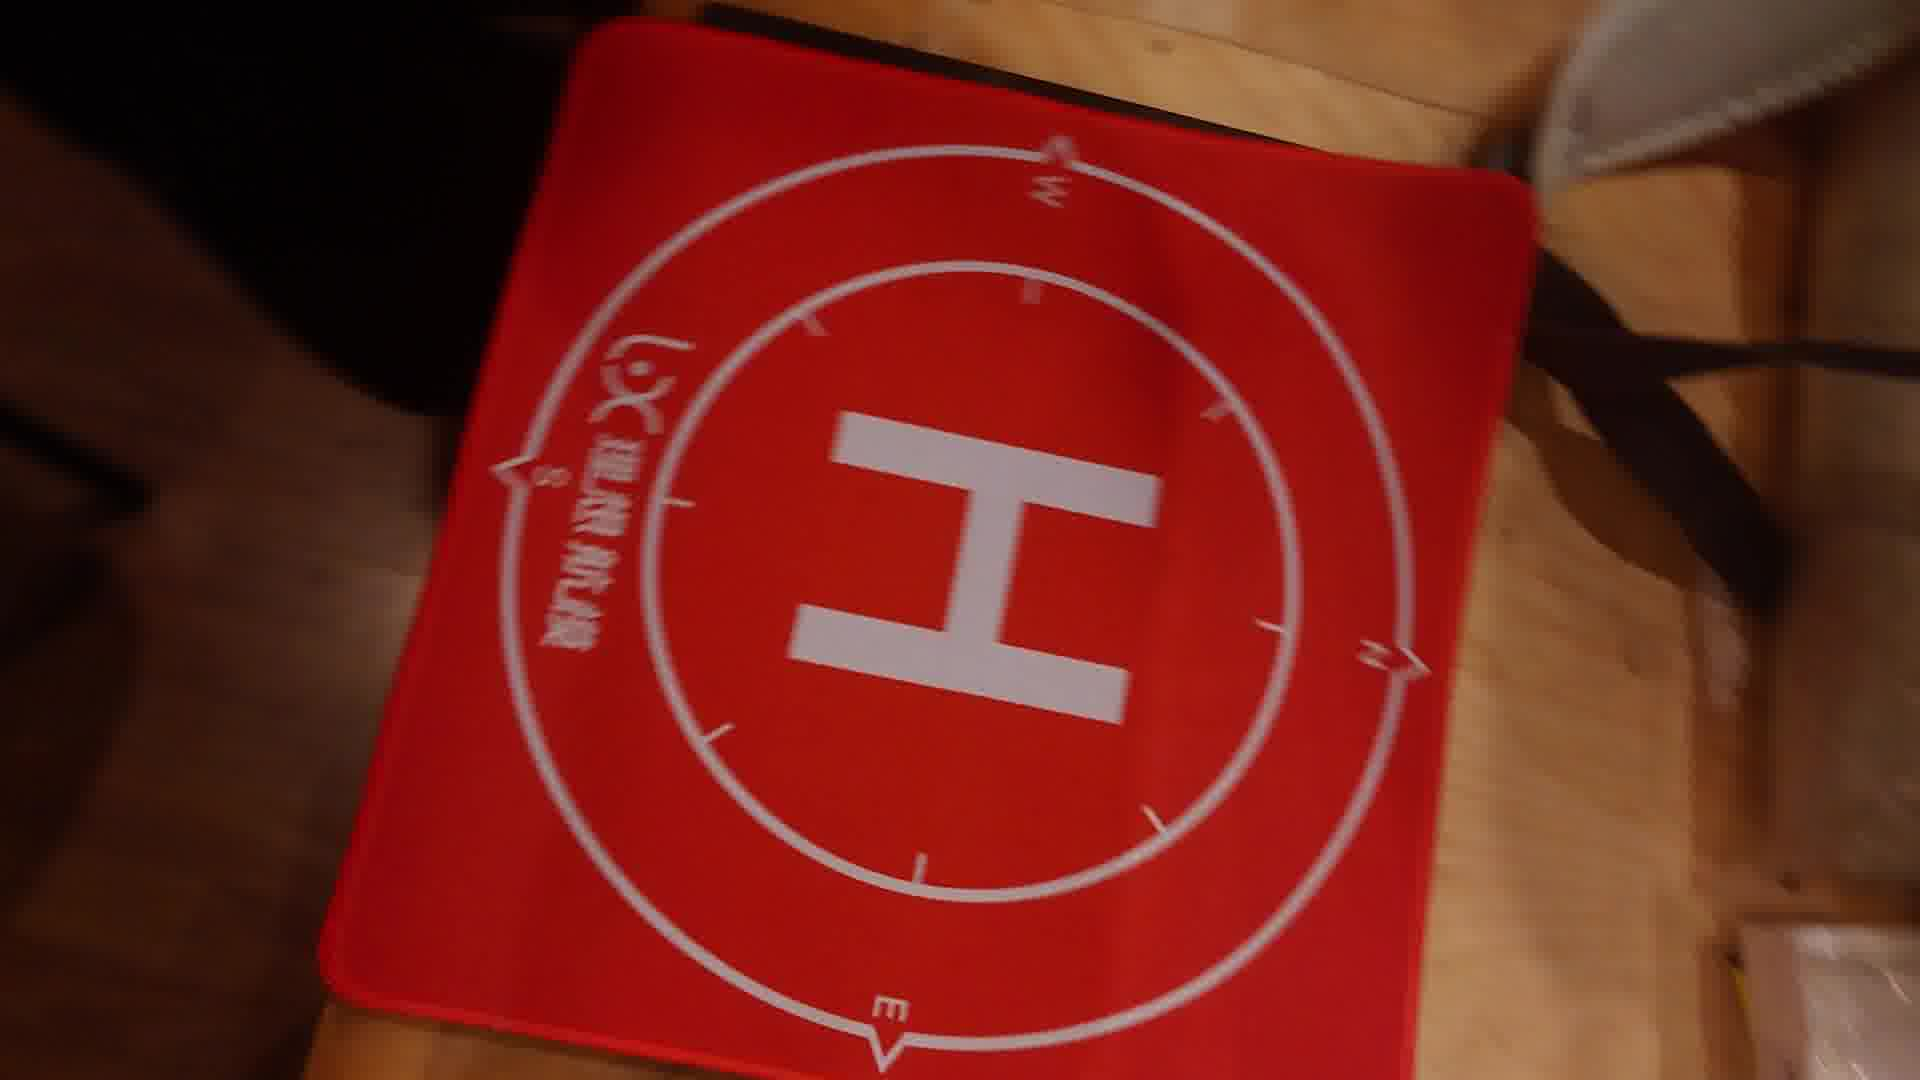H: (785, 414, 1160, 727)
